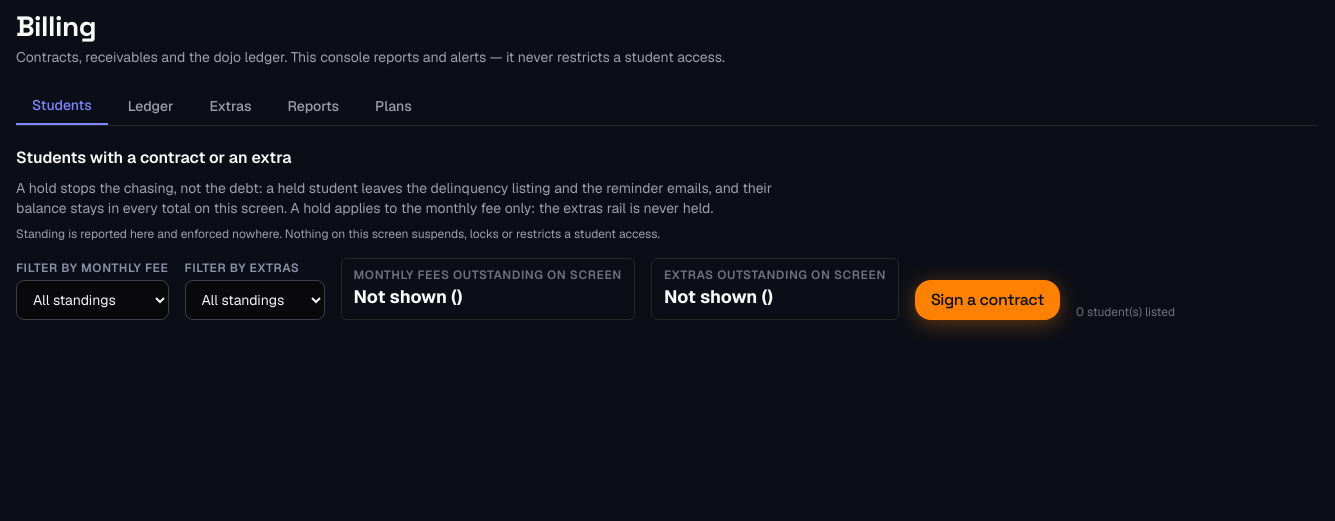
Test case: AdminBillingPage › opens the plan catalogue on the Plans tab
Click the tab "Plans".
click(393, 106)  # box [359,87,428,125]
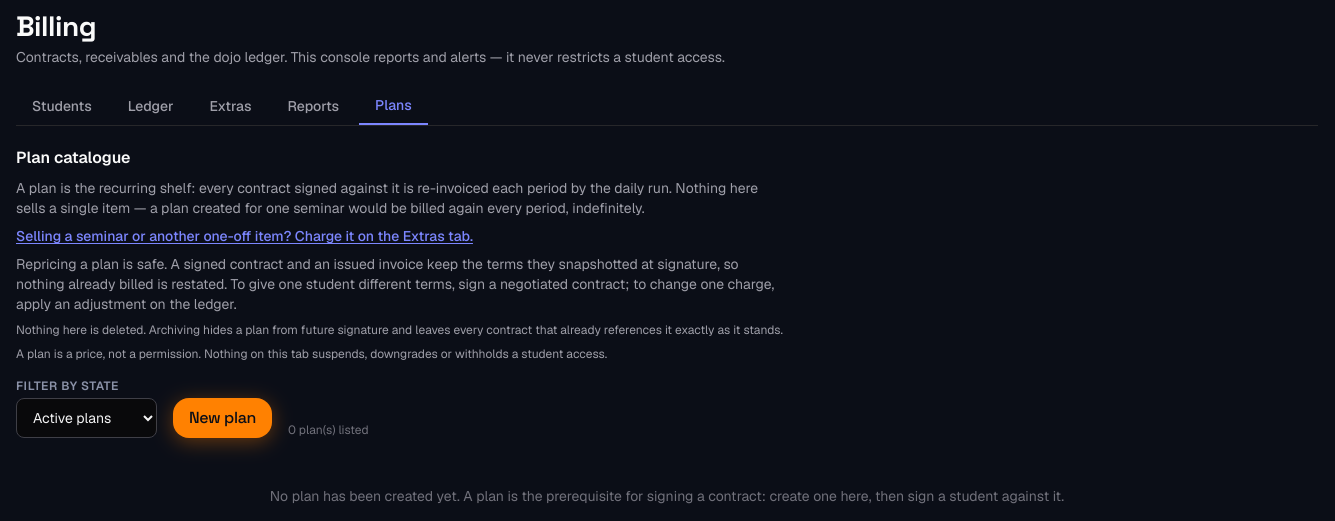
Result: the text "A plan is the recurring shelf: every contract signed against it is re-invoiced each period by the daily run. Nothing her" is shown at [16,179,758,217]
